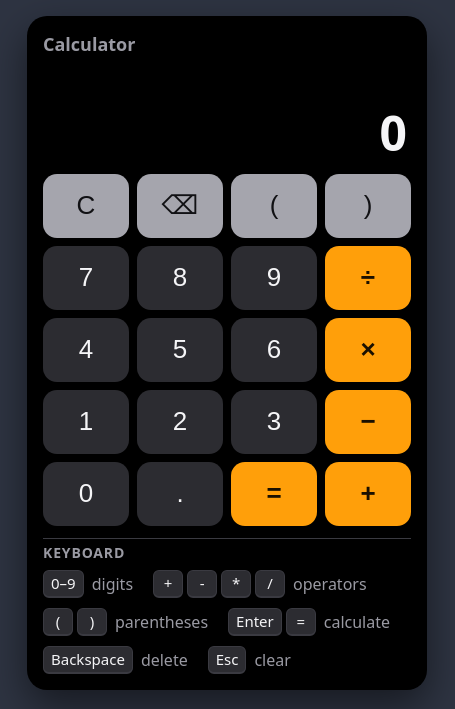
Test: App › offers retry when the service is unreachable
Type keys "1+2{Enter}"
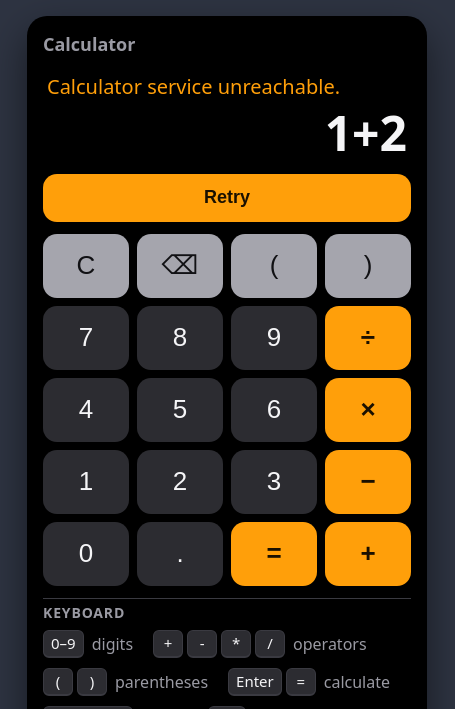
Click the button "Retry" at (227, 198), box [43, 174, 411, 222]
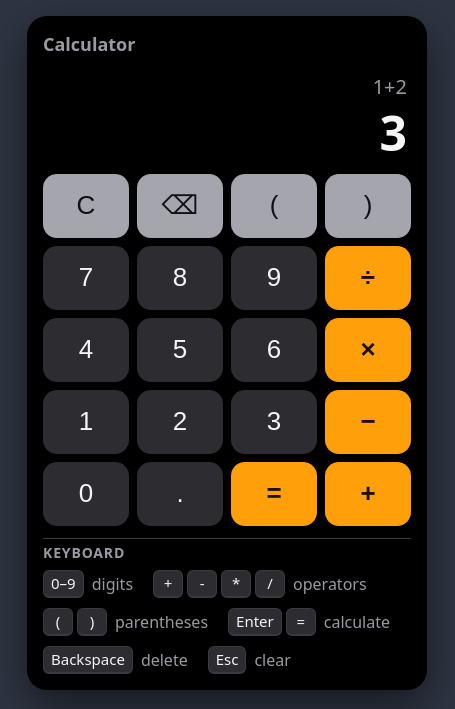
Expected: the message "3" is shown, [380, 100, 407, 165]
